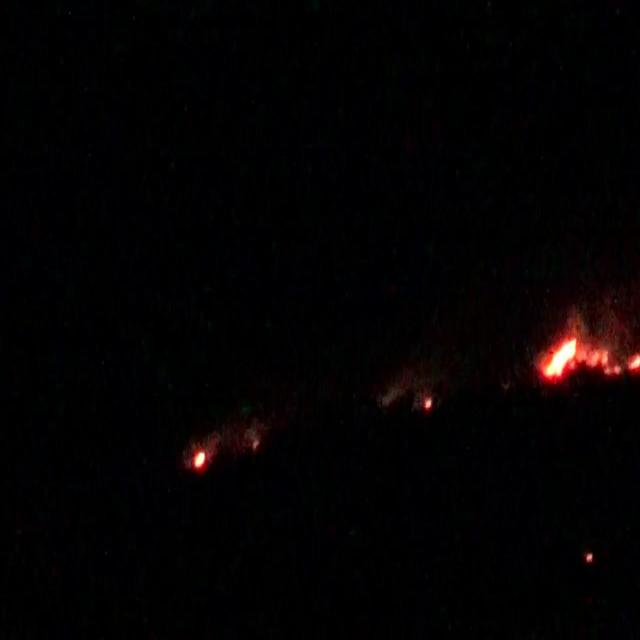Fire: (538, 324, 636, 383), (194, 455, 206, 467)
